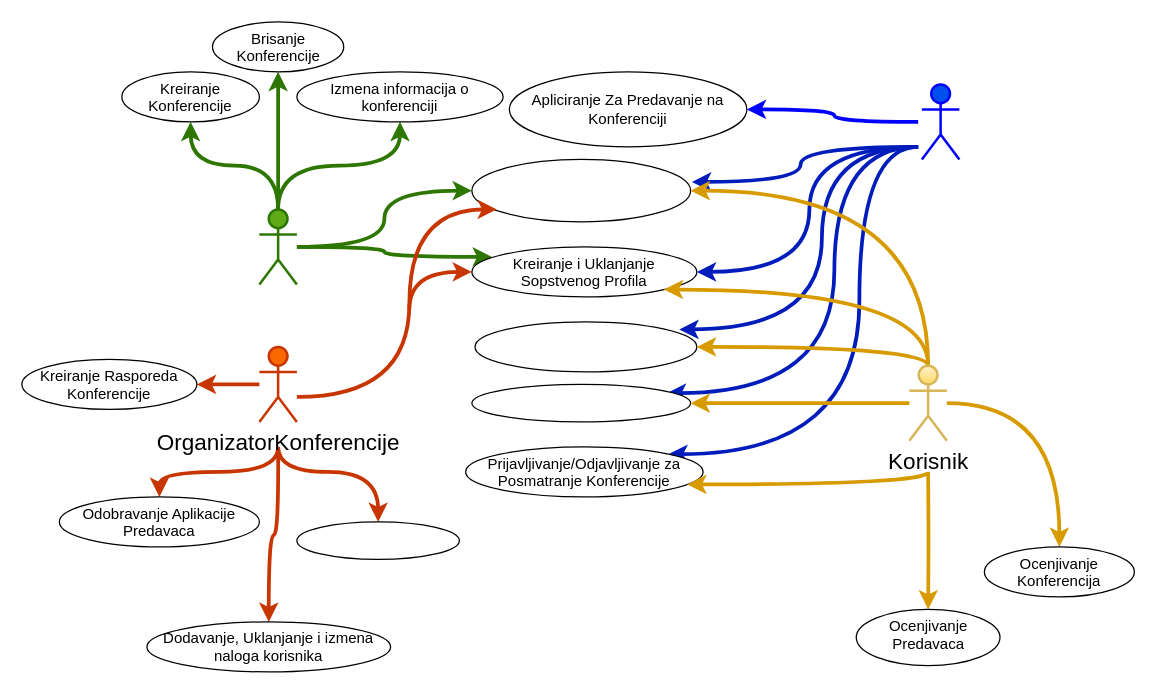
The diagram is 1156 pixels wide and 694 high, and some of its shapes have lost their labels. Here are the shapes that lost their labels. From the top down, the centre of each, then its label:
At (940,121): "Predavac".
At (581,190): "Prijavljivanje/Odjavljivanje sa profila".
At (278,246): "AdministratorSistema".
At (585,346): "Pretrazivanje Konferencija".
At (581,402): "Preuzimanje sertifikata".
At (377,540): "Izmena sifre korisnika".
